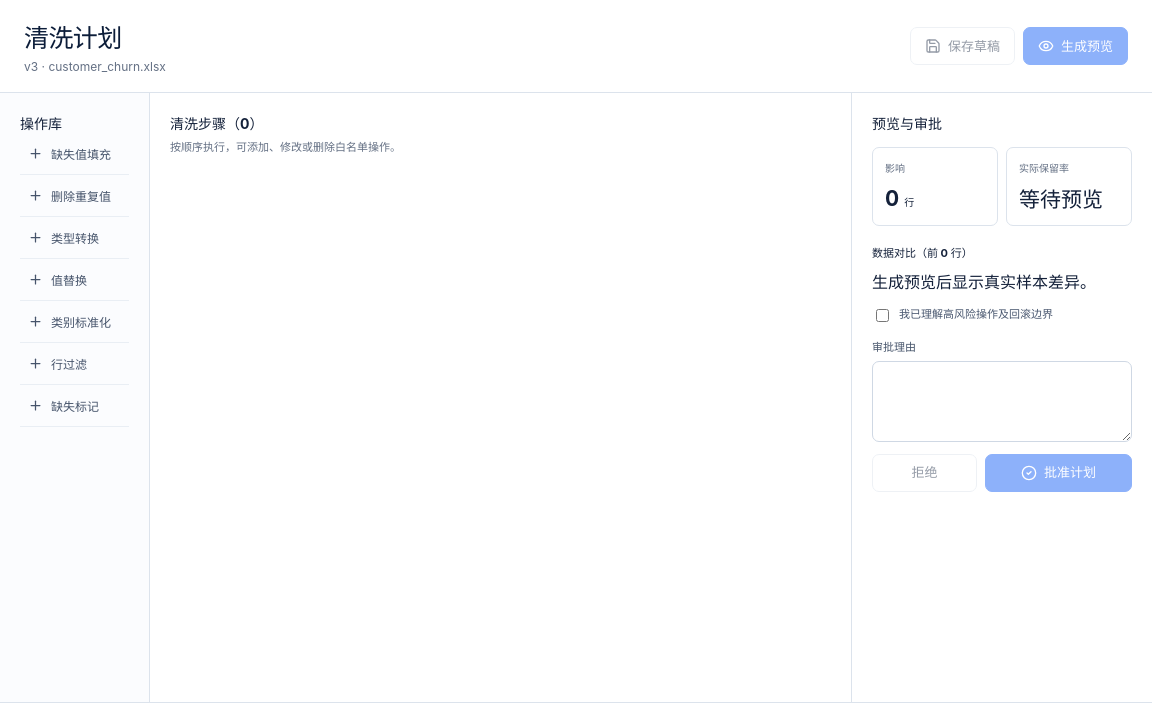
Scenario: first cleaning plan › allows 保存草稿 with no existing plan
The width and height of the screenshot is (1152, 720).
Expected: the button "保存草稿" is disabled, [910, 27, 1015, 65]
Step 1. Click the button "缺失值填充" → (74, 154), box [20, 133, 129, 175]
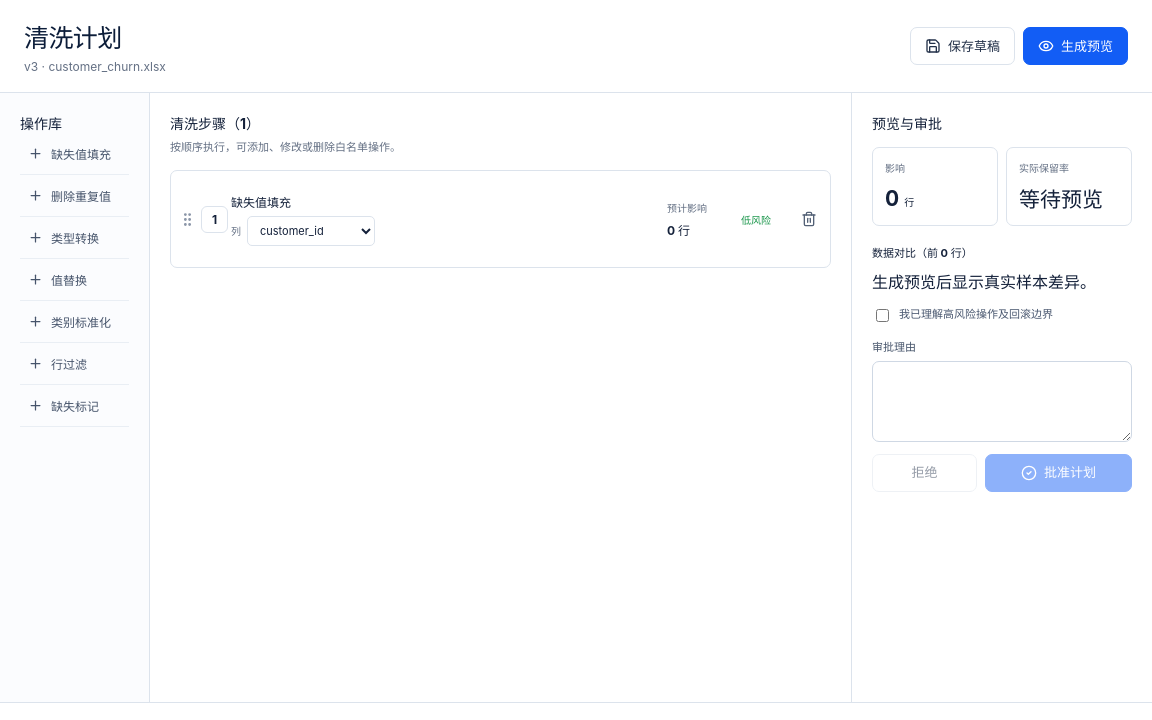
Now the button "保存草稿" is enabled
Step 2. Click the button "保存草稿" → (962, 46), box [910, 27, 1015, 65]
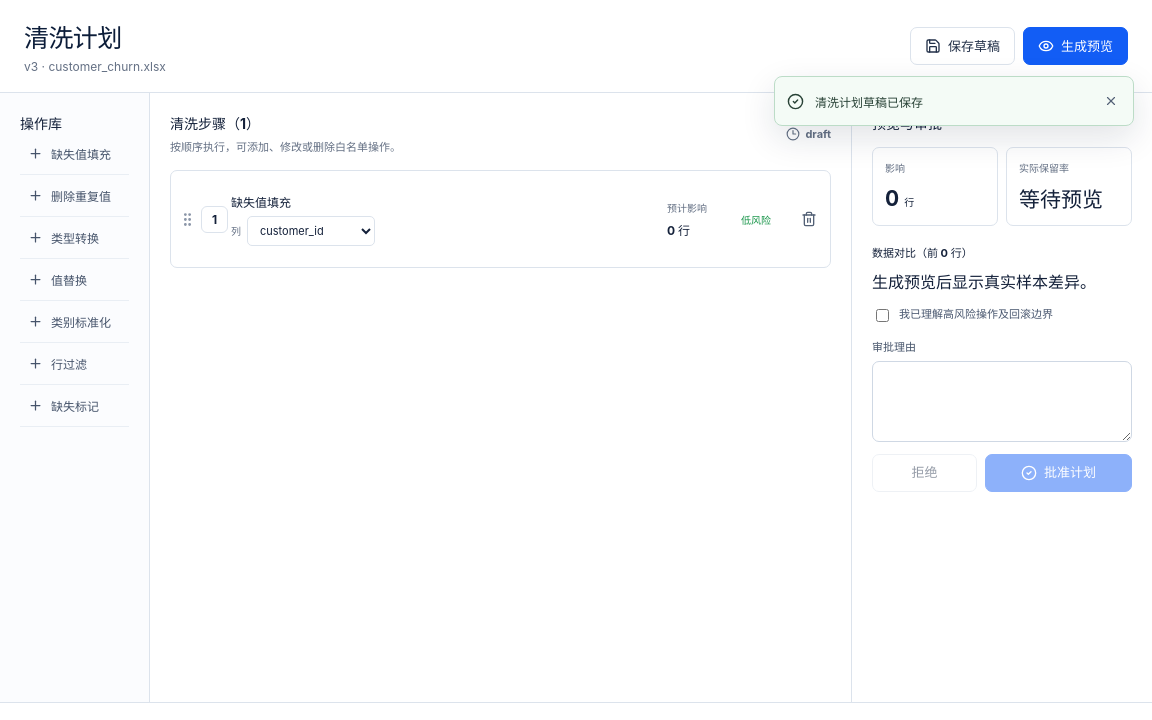
Now the text "清洗计划草稿已保存" is shown, box [815, 94, 923, 110]
